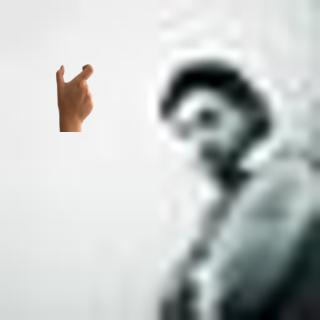Irritated: (52, 61, 96, 130)
